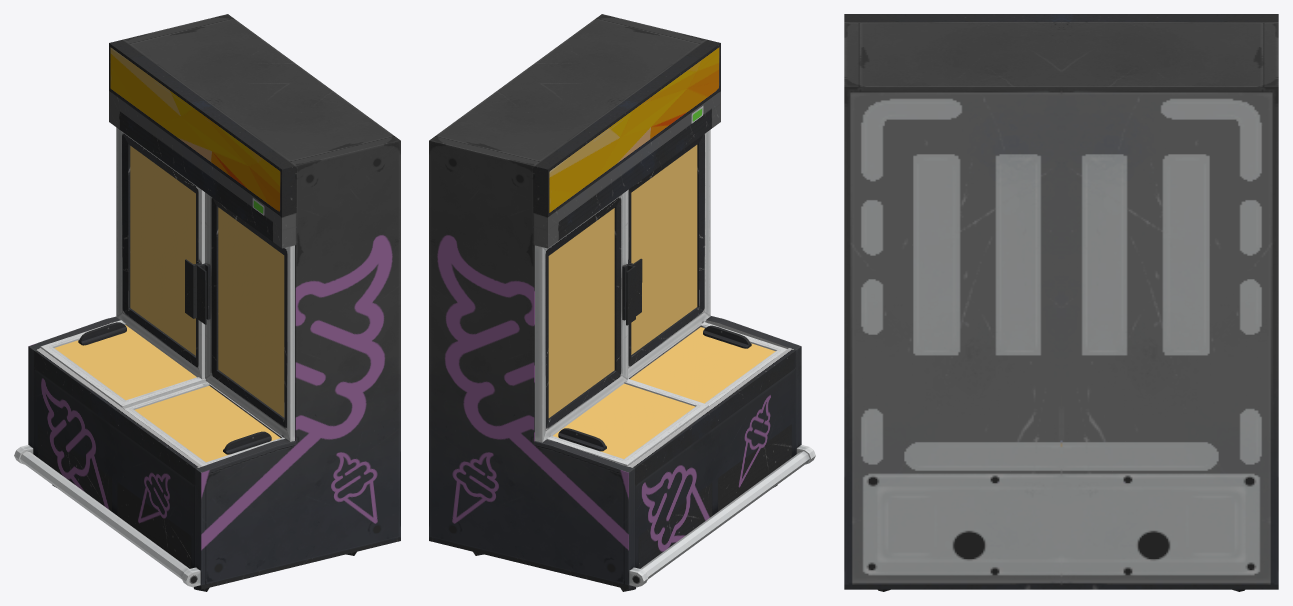
File: P_NEWMaket01_after08.obj
3 views of the same model, side by side, from view 1: azimuth 30°, elevation 25°; view 2: azimuth 150°, elevation 25°; view 3: azimuth 270°, elevation 25° (orthographic). The views are drawn at different scales.
Bounding box in the file's own units: 1.5 × 2.79 × 2.1.
37 materials, 37 textured.
